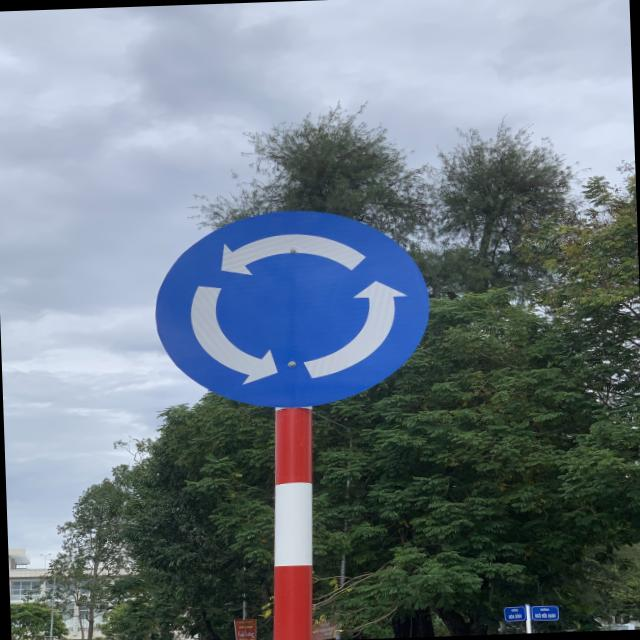Xe_Bus: (150, 203, 436, 414)
